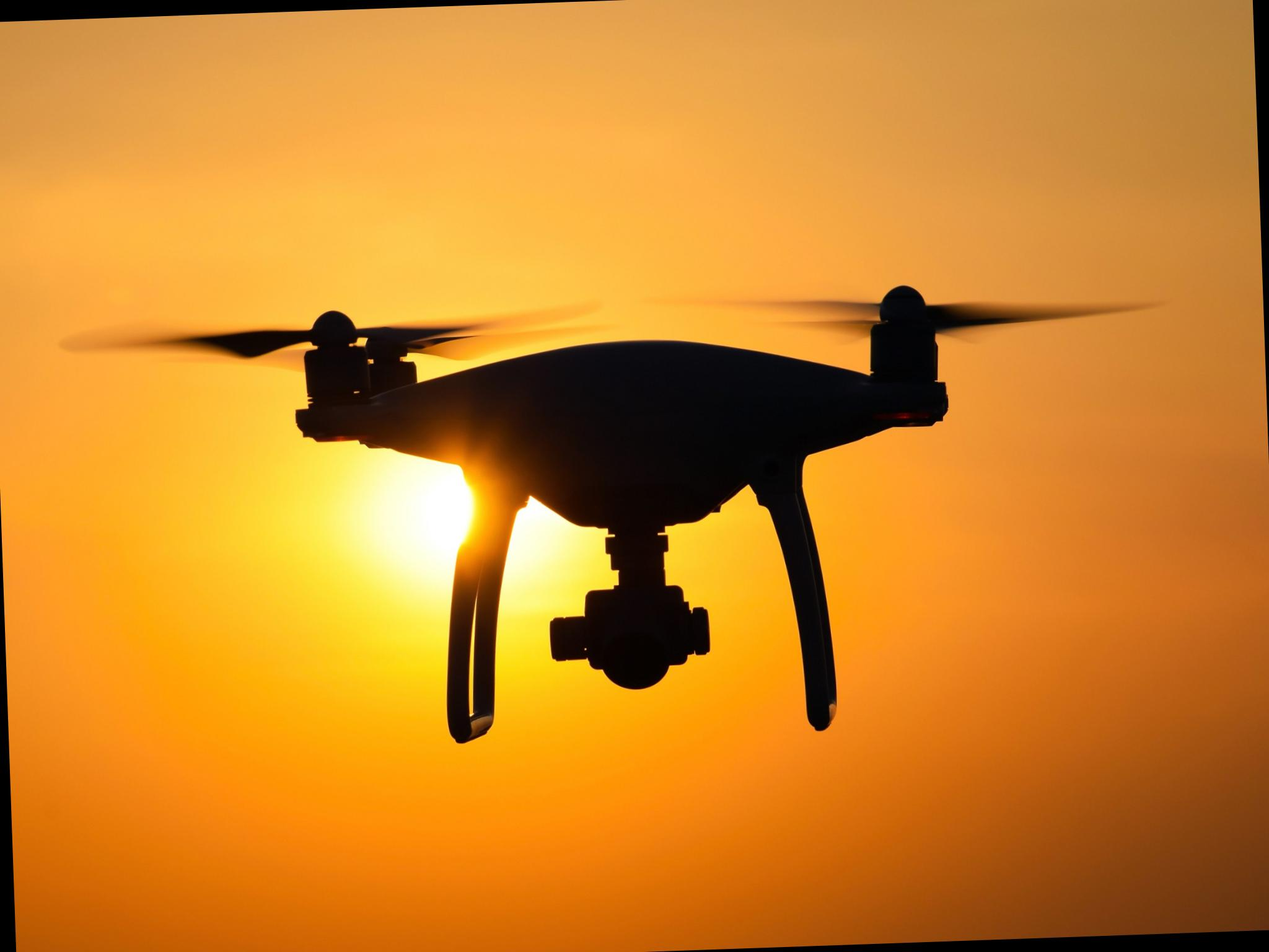drone: (106, 245, 1213, 598)
